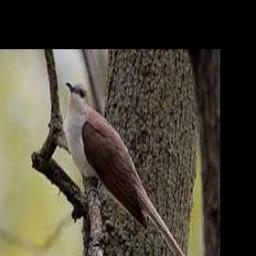Cuckoo: (66, 80, 199, 256)
